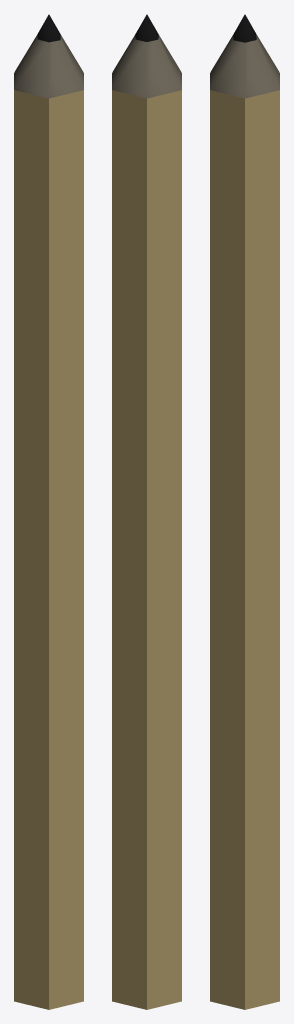
Rendered from Pencil.fbx.
3 renders of one model, left to right at view 1: azimuth 90°, elevation 25°; view 2: azimuth 150°, elevation 25°; view 3: azimuth 330°, elevation 25°, orthographic.
Visible parts, largest first — view 1: Pencil; view 2: Pencil; view 3: Pencil.
Boxes of the visible parts, bbox=[...] form: Pencil: bbox=[14, 14, 83, 1009]; Pencil: bbox=[112, 14, 181, 1009]; Pencil: bbox=[210, 14, 279, 1009].
Size of the model in its own units: 0.5 by 6.71 by 0.433.
